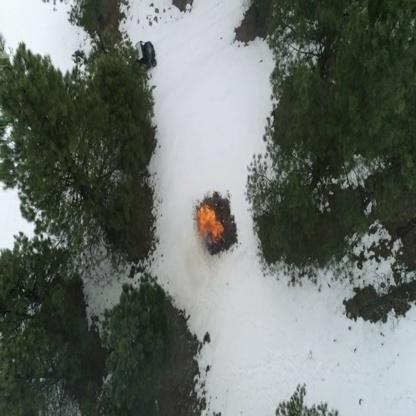Fire: (196, 203, 224, 245)
